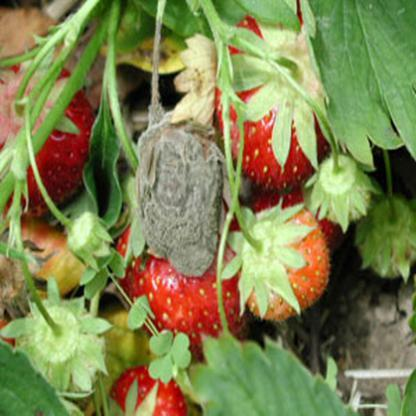Strawberry_Gray_Mold: (134, 104, 228, 278)
